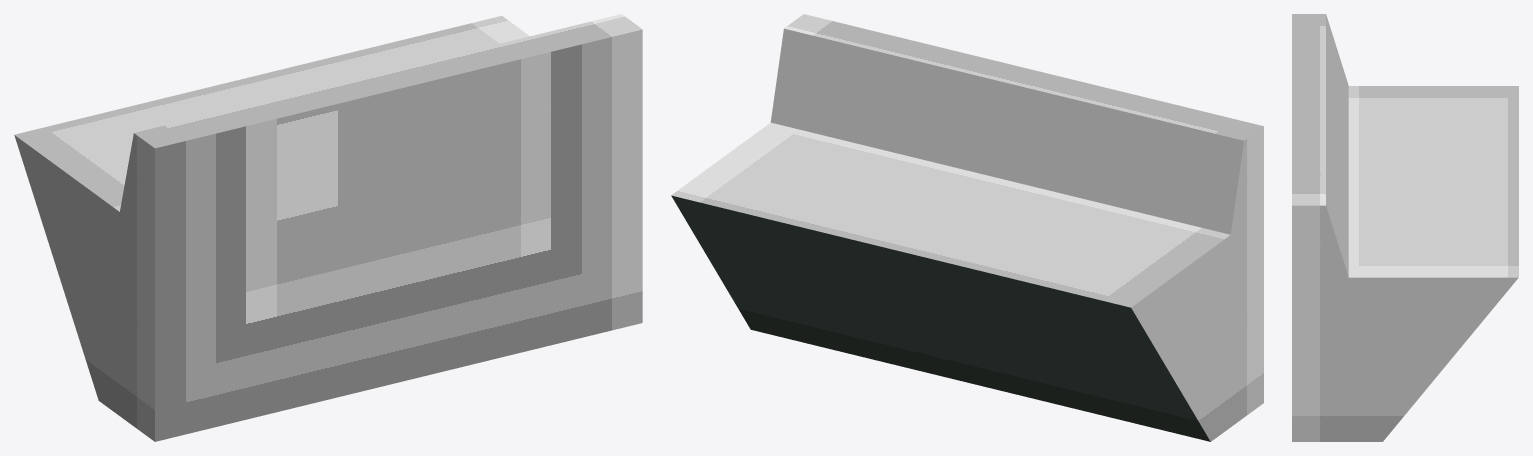
File: desk.obj
3 renders of one model, left to right at view 1: azimuth 30°, elevation 25°; view 2: azimuth 150°, elevation 25°; view 3: azimuth 270°, elevation 25°, orthographic. The views are drawn at different scales.
Bounding box in the file's own units: 1 × 0.575 × 0.5.
